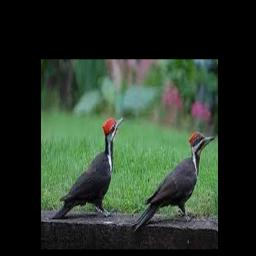Woodpecker: (132, 131, 215, 231), (52, 116, 125, 218)
